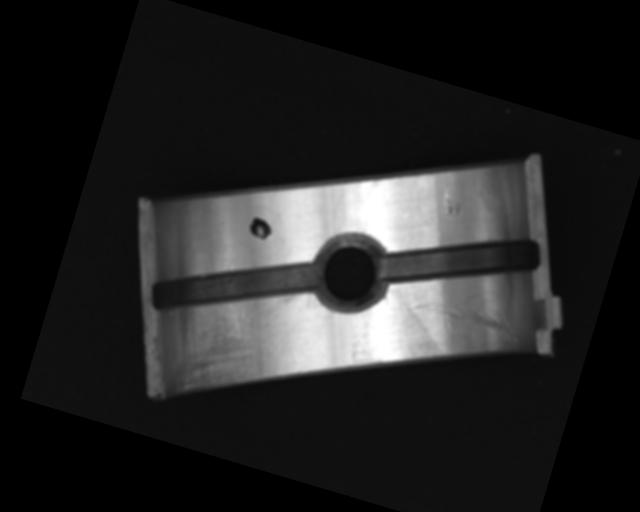blot: (246, 216, 275, 243)
bruise: (436, 183, 467, 218)
gap: (147, 222, 322, 352), (373, 200, 545, 320)
hole: (302, 224, 400, 325)
nick: (402, 271, 532, 348)
scratch: (164, 266, 299, 422)
